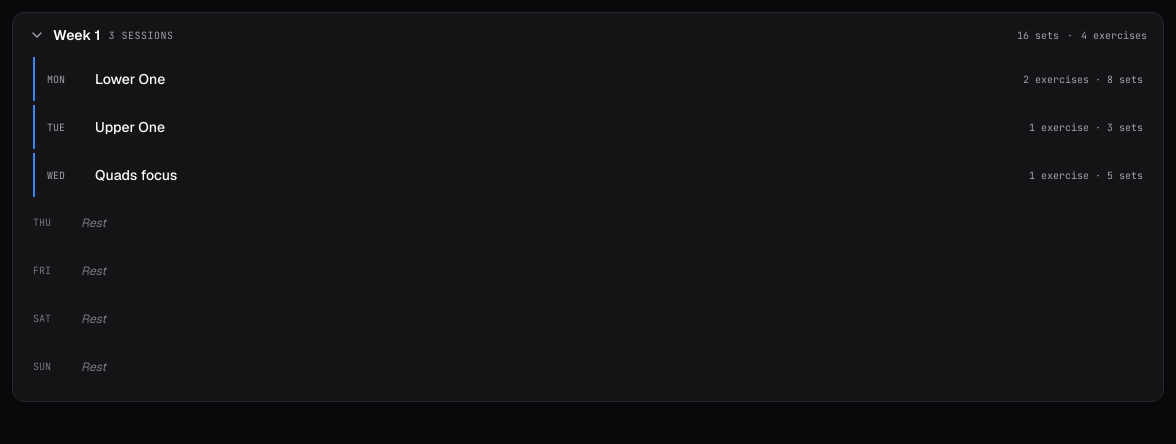
Test: WeekBreakdownCard — PR3 › renders a true rep RANGE as 'sets × min–max'
This screenshot has width=1176, height=444.
Click the button "Tue Upper One 1 exercise · 3 sets" at [130, 127], box [43,105,1151,149]
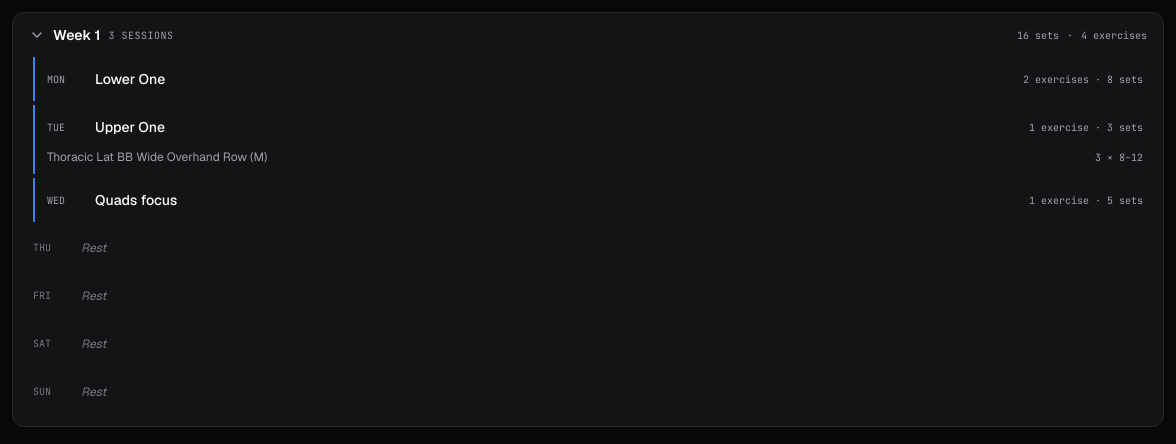
Expected: the text "3 × 8–12" is shown, [1095,150,1143,166]
